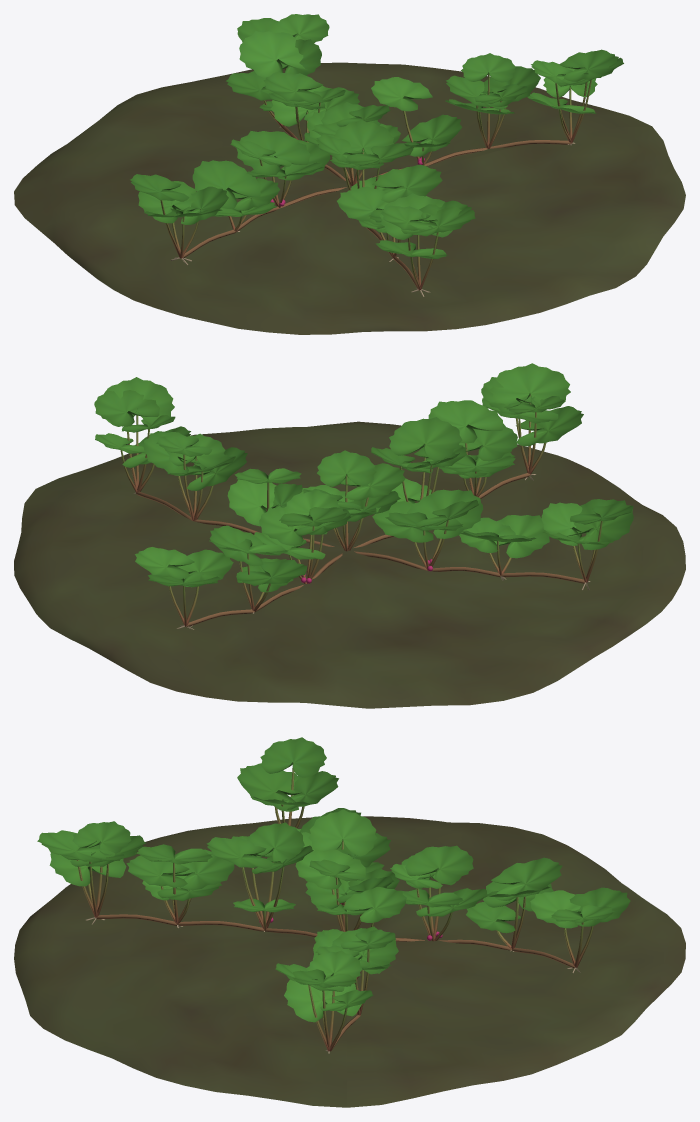
File: thanakuni-creeper.glb
3 renders of one model, top to bottom at view 1: azimuth 30°, elevation 25°; view 2: azimuth 150°, elevation 25°; view 3: azimuth 270°, elevation 25°, orthographic. The views are drawn at different scales.
Parts seen in each view (by area): view 1: soil, thanakuni-leaf-upper, petioles, runners; view 2: soil, thanakuni-leaf-upper, petioles, runners; view 3: soil, thanakuni-leaf-upper, petioles, runners.
Boxes of the visible parts, <box> form: soil: <box>14,62,685,334</box>; thanakuni-leaf-upper: <box>130,14,623,258</box>; petioles: <box>160,35,591,290</box>; runners: <box>171,126,575,296</box>; soil: <box>14,421,685,708</box>; thanakuni-leaf-upper: <box>94,363,633,592</box>; petioles: <box>120,394,602,626</box>; runners: <box>134,473,590,629</box>; soil: <box>14,816,685,1107</box>; thanakuni-leaf-upper: <box>37,737,630,1022</box>; petioles: <box>76,763,593,1051</box>; runners: <box>86,905,580,1053</box>.
Bounding box in the file's own units: 1.89 × 0.328 × 1.86.
